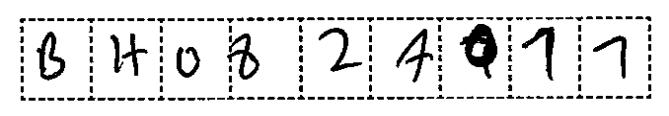0: (460, 22, 505, 76), (169, 40, 207, 83)
2: (317, 26, 365, 77)
7: (586, 29, 635, 86), (521, 24, 567, 84)
8: (231, 29, 265, 84)
A: (391, 24, 436, 84)
B: (32, 26, 74, 84)
H: (104, 29, 152, 84)
